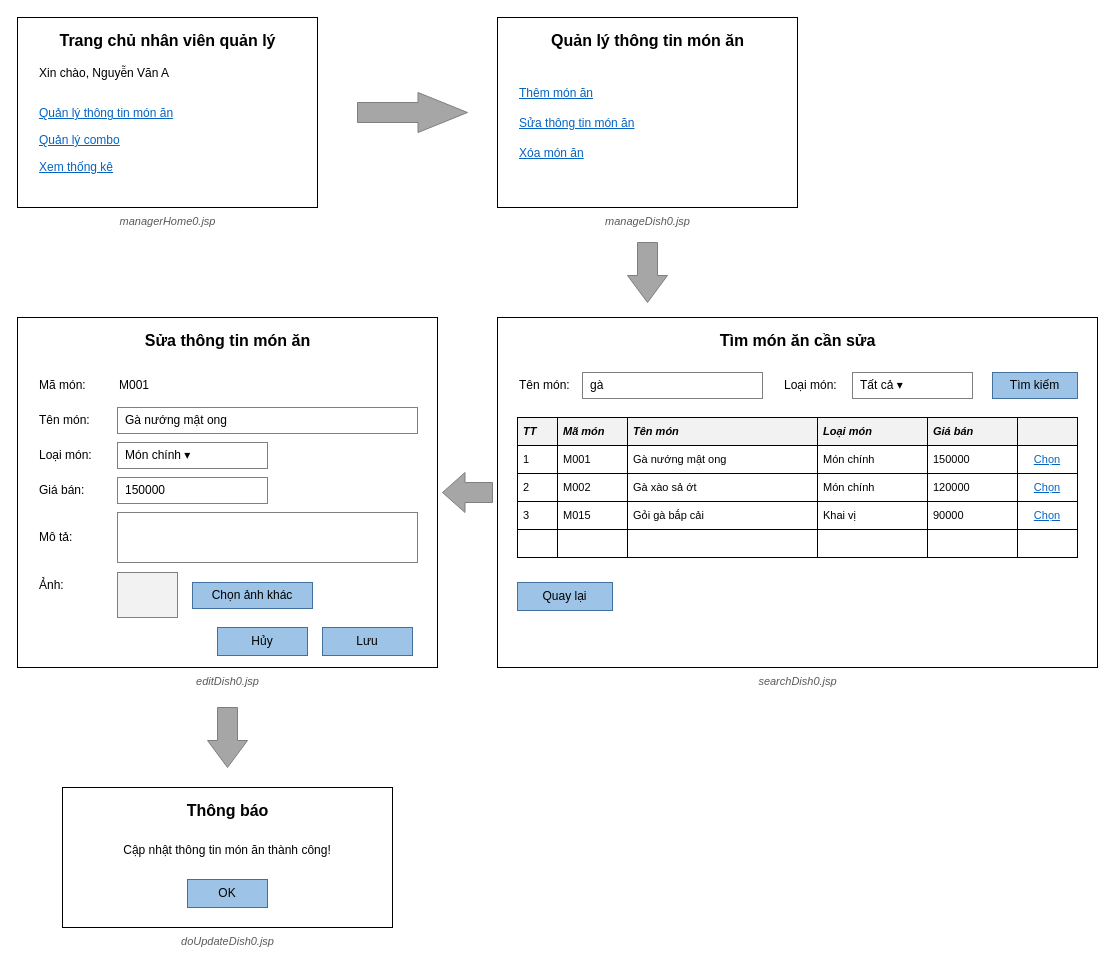
The diagram is 1115 pixels wide and 969 high, and some of its shapes have lost their labels. The box of each missing label's shape, as (x1, y1, x2, y2) in pixels:
Gà ta nướng mật ong, phục vụ 2 người: (116, 512, 418, 562)
ảnh món: (116, 572, 178, 618)
